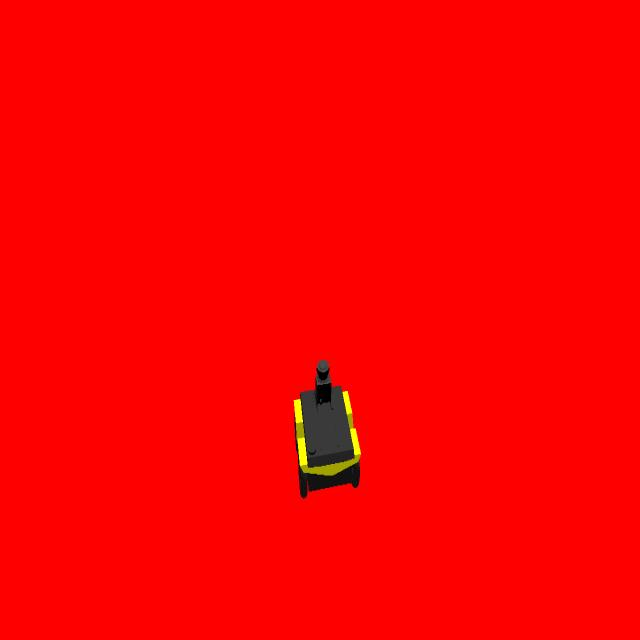jackal: (293, 359, 362, 500)
